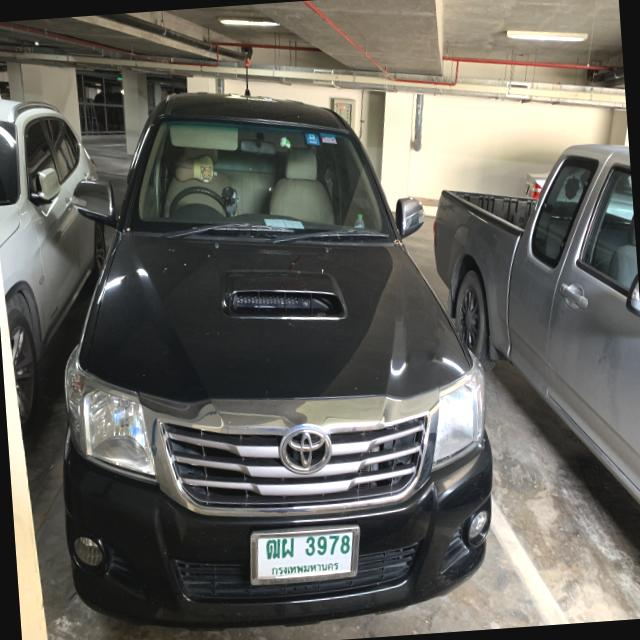license_plate: (246, 520, 363, 588)
